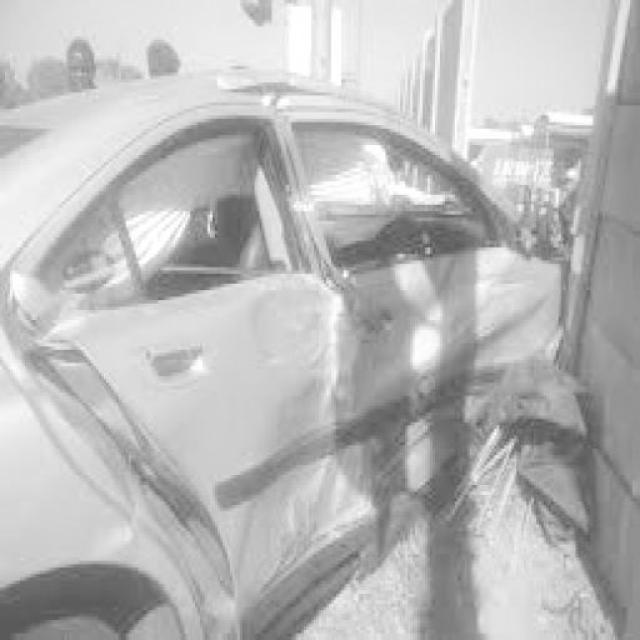car damage: (8, 68, 568, 629)
